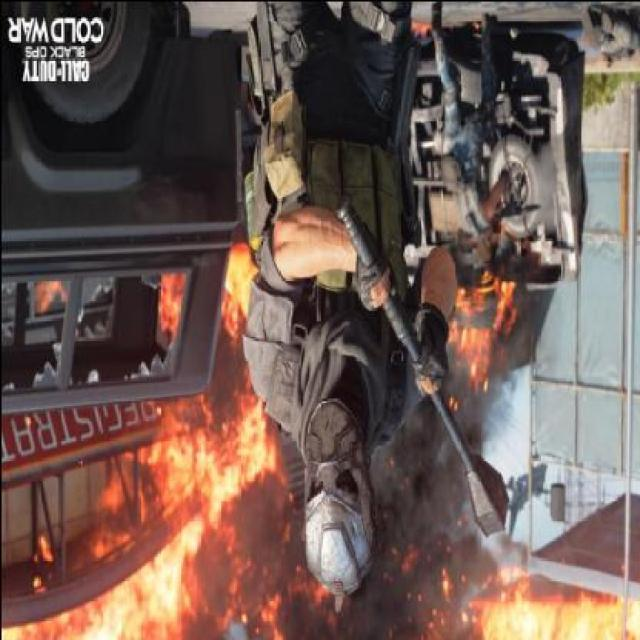weapon: (331, 194, 511, 545)
